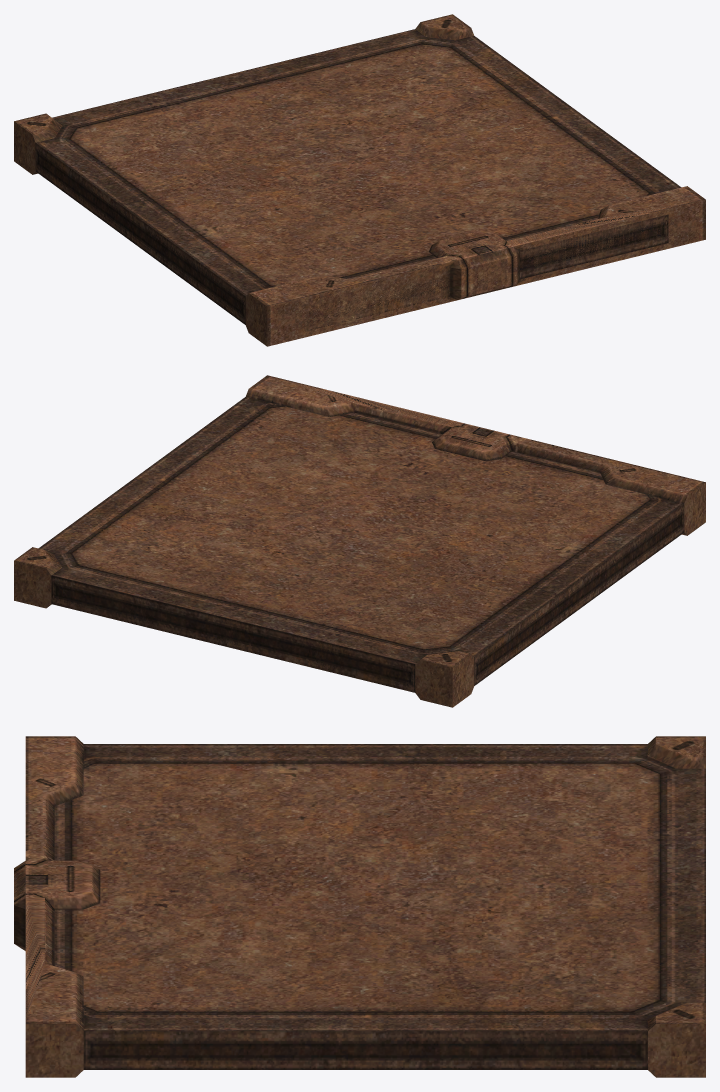
The model's file is catwalk_rusty_3way.dae.
3 renders of one model, top to bottom at view 1: azimuth 30°, elevation 25°; view 2: azimuth 150°, elevation 25°; view 3: azimuth 270°, elevation 25°, orthographic. The views are drawn at different scales.
Visible parts, largest first — view 1: 3way; view 2: 3way; view 3: 3way.
Boxes of the visible parts, left/top/right/bottom form: 3way: left=14, top=14, right=705, bottom=346; 3way: left=14, top=375, right=705, bottom=707; 3way: left=14, top=736, right=705, bottom=1077.
Bounding box in the file's own units: 2 × 0.1745 × 2.03.
